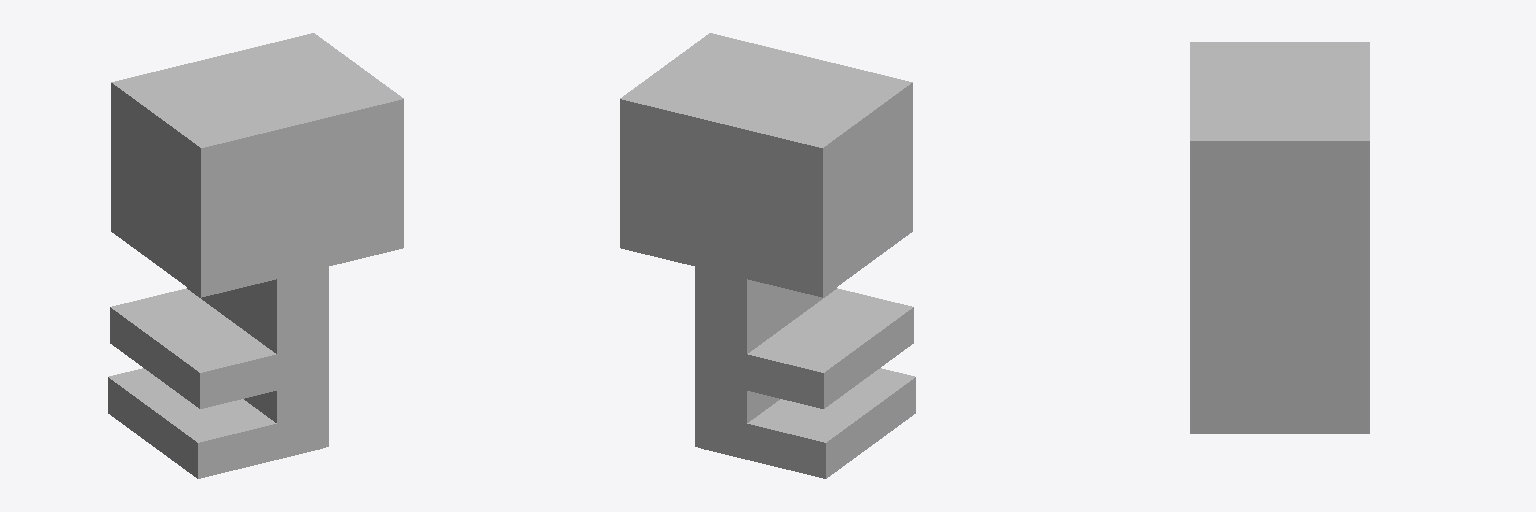
Rendered from key.obj.
The picture shows the model from 3 angles: view 1: azimuth 30°, elevation 25°; view 2: azimuth 150°, elevation 25°; view 3: azimuth 270°, elevation 25°; orthographic projection.
Visible parts, largest first — view 1: 立方体; view 2: 立方体; view 3: 立方体.
Part boxes in pixels (left/top/right/bottom): 立方体: left=108, top=33, right=403, bottom=478; 立方体: left=620, top=33, right=915, bottom=478; 立方体: left=1190, top=42, right=1369, bottom=433.
Bounding box in the file's own units: 2.8 × 4.28 × 2.12.